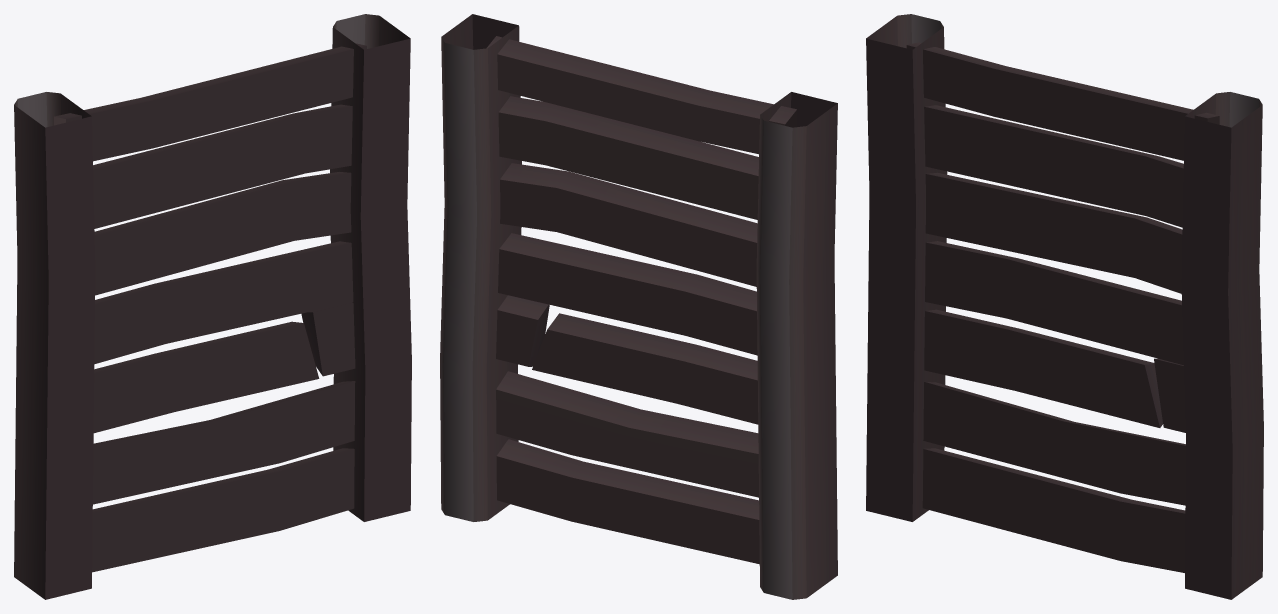
File: Bridge 01 Mid.FBX
3 views of the same model, side by side, from view 1: azimuth 30°, elevation 25°; view 2: azimuth 150°, elevation 25°; view 3: azimuth 330°, elevation 25° (orthographic).
Parts seen in each view (by area): view 1: Bridge 01 Mid; view 2: Bridge 01 Mid; view 3: Bridge 01 Mid.
Part boxes in pixels (bbox=[...]): Bridge 01 Mid: bbox=[14, 14, 411, 599]; Bridge 01 Mid: bbox=[440, 14, 837, 599]; Bridge 01 Mid: bbox=[866, 14, 1263, 599].
Size of the model in its own units: 262 by 323 by 45.19.
1 material, 1 textured.
